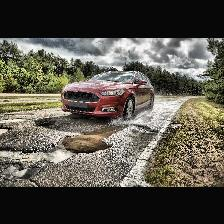pothole: (50, 133, 111, 153), (0, 116, 26, 122), (37, 119, 55, 124), (0, 125, 12, 132)
